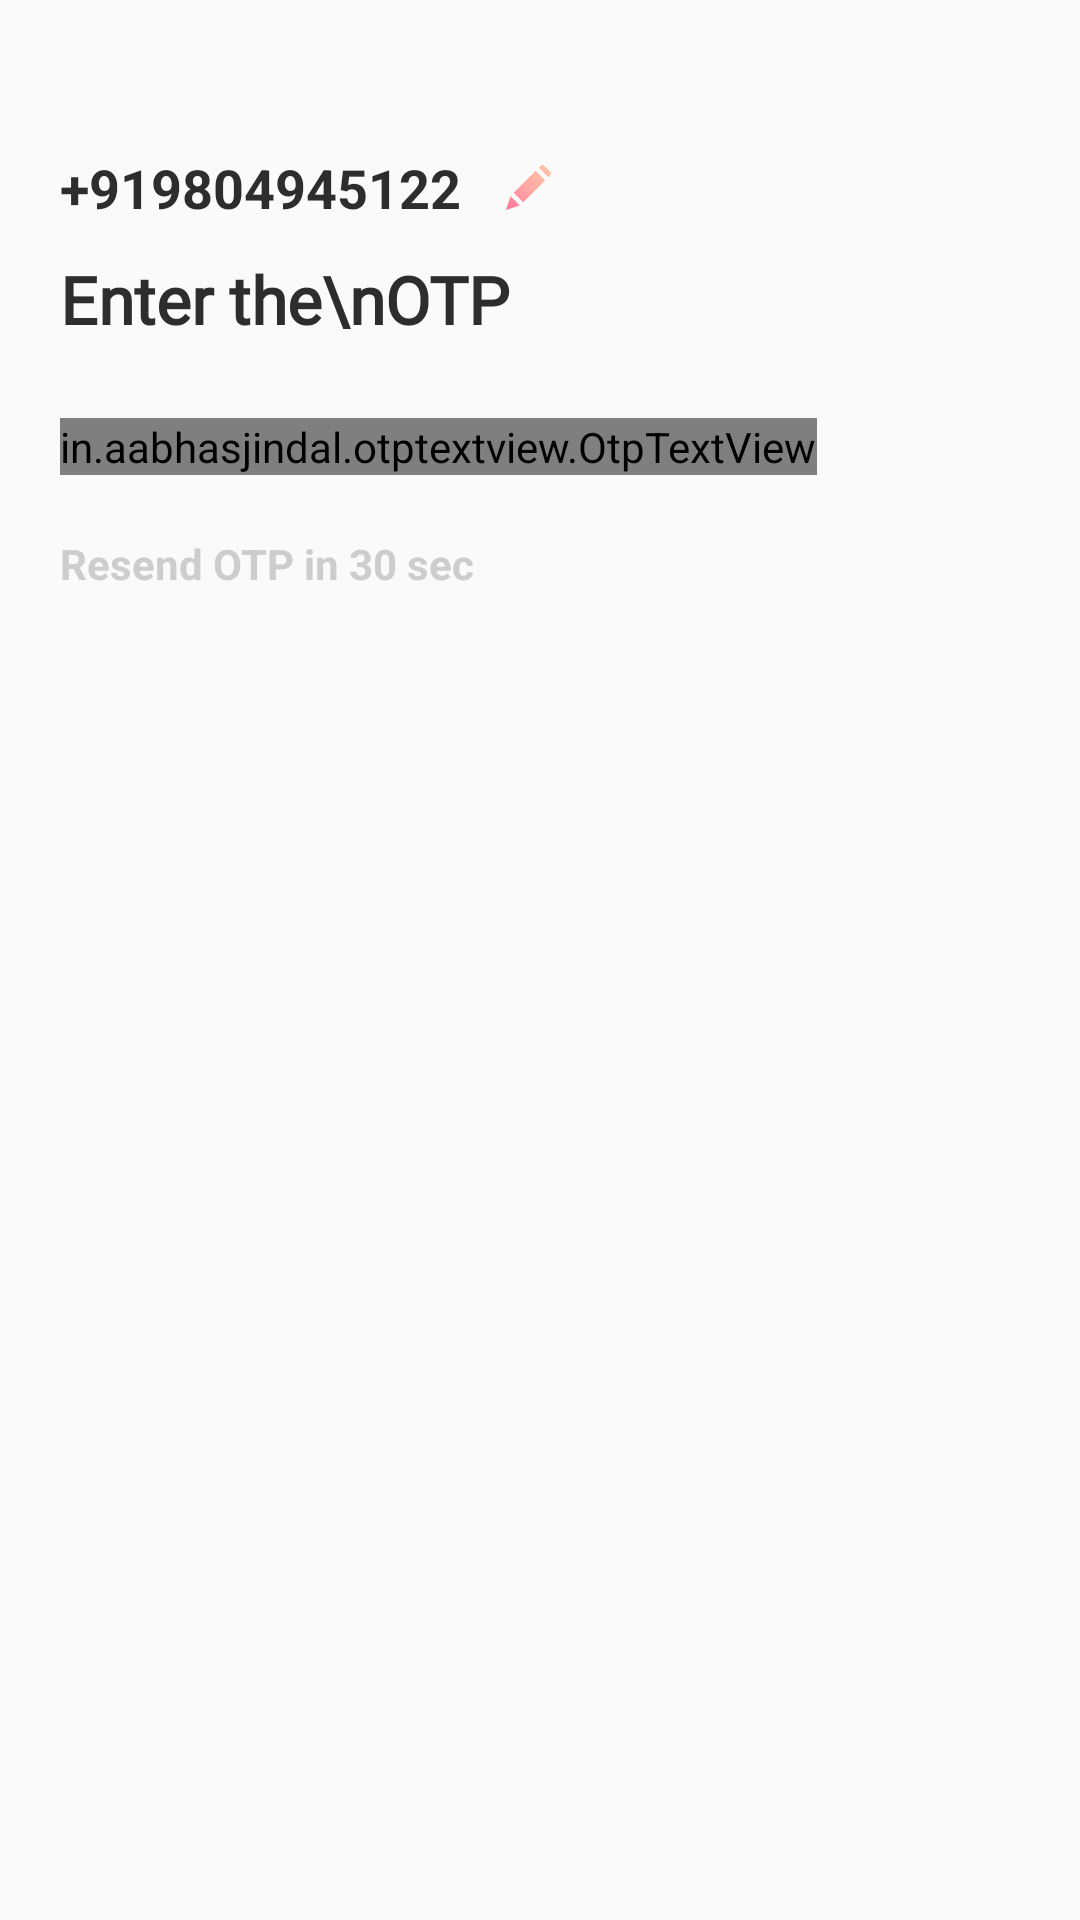

Locate icon controls on the screen. Image size 1080w x 1920h, boxes as (x1, y1, x2, y2).
pencil: (506, 165, 551, 210)
